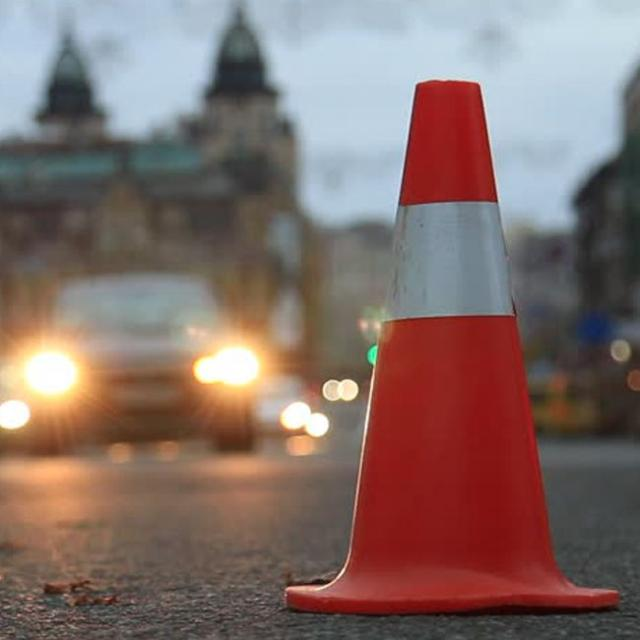Traffic Cone: (260, 45, 640, 640)
